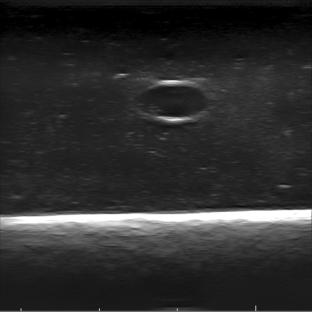vessel: (135, 78, 209, 123)
